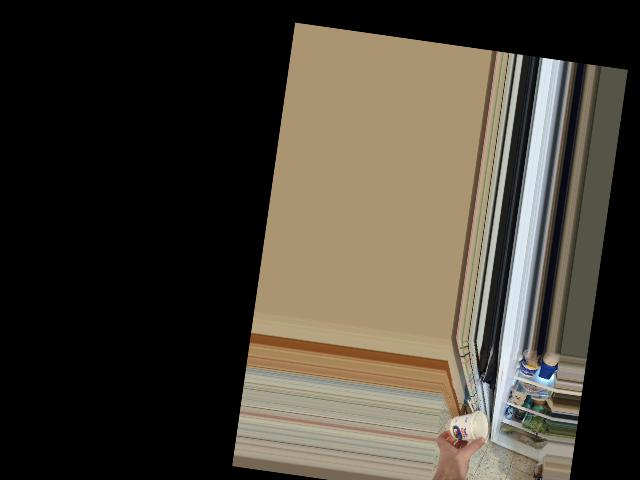cotage: (447, 409, 489, 447)
